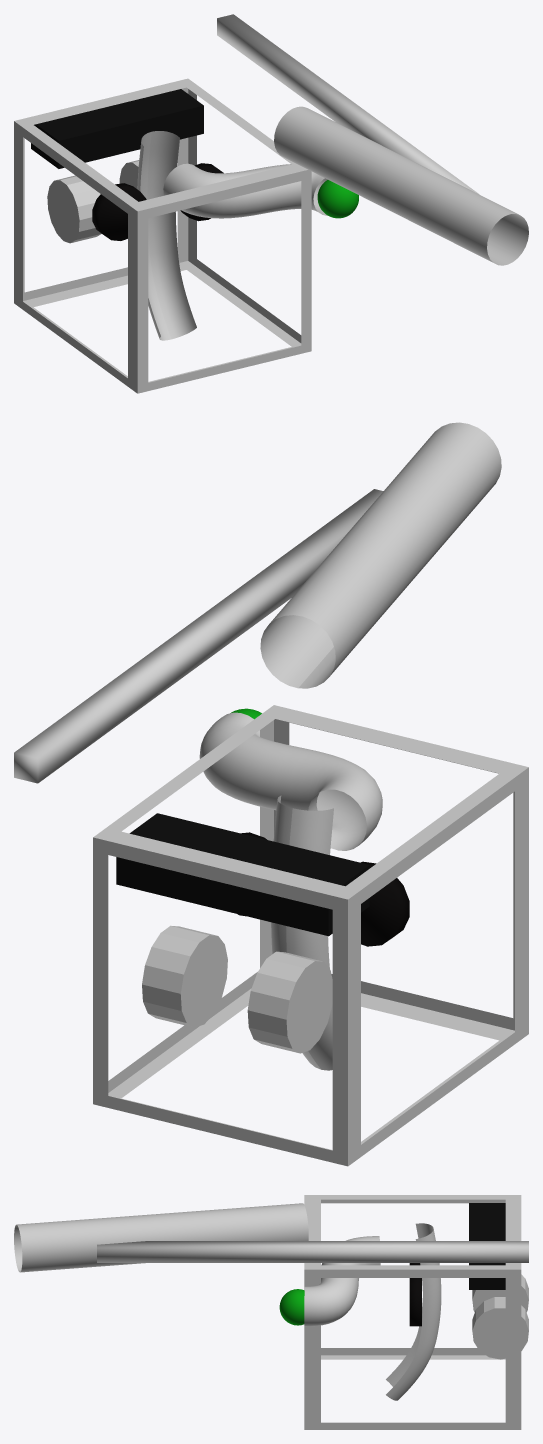
The model's file is PetitRobot.obj.
3 renders of one model, top to bottom at view 1: azimuth 30°, elevation 25°; view 2: azimuth 150°, elevation 25°; view 3: azimuth 270°, elevation 25°, orthographic. The views are drawn at different scales.
Visible parts, largest first — view 1: Robot, Distributeur_Cube.002, Batterie_Cube.003, BezierCurve, Tuyau, Roue_Cylinder.005, Lanceur, Sphere; view 2: Robot, Distributeur_Cube.002, Roue_Cylinder.005, Batterie_Cube.003, Tuyau, BezierCurve, Lanceur; view 3: Distributeur_Cube.002, Robot, BezierCurve, Roue_Cylinder.005, Tuyau, Batterie_Cube.003, Sphere, Lanceur.
Part boxes in pixels (x1=…): Robot: x1=14, y1=78, x2=311, y2=393; Distributeur_Cube.002: x1=217, y1=14, x2=528, y2=265; Batterie_Cube.003: x1=31, y1=89, x2=203, y2=168; BezierCurve: x1=137, y1=131, x2=196, y2=340; Tuyau: x1=163, y1=163, x2=327, y2=218; Roue_Cylinder.005: x1=47, y1=160, x2=139, y2=243; Lanceur: x1=92, y1=163, x2=223, y2=240; Sphere: x1=317, y1=180, x2=358, y2=218; Robot: x1=93, y1=705, x2=528, y2=1166; Distributeur_Cube.002: x1=14, y1=422, x2=501, y2=783; Roue_Cylinder.005: x1=142, y1=925, x2=332, y2=1053; Batterie_Cube.003: x1=116, y1=813, x2=369, y2=936; Tuyau: x1=199, y1=712, x2=382, y2=850; BezierCurve: x1=271, y1=795, x2=333, y2=1070; Lanceur: x1=237, y1=832, x2=409, y2=946; Distributeur_Cube.002: x1=14, y1=1203, x2=528, y2=1272; Robot: x1=304, y1=1195, x2=521, y2=1429; BezierCurve: x1=386, y1=1223, x2=441, y2=1400; Roue_Cylinder.005: x1=472, y1=1274, x2=528, y2=1359; Tuyau: x1=304, y1=1236, x2=380, y2=1326; Batterie_Cube.003: x1=469, y1=1203, x2=505, y2=1289; Sphere: x1=279, y1=1289, x2=304, y2=1325; Lanceur: x1=409, y1=1263, x2=421, y2=1326.
Bounding box in the file's own units: 28.15 × 29.59 × 61.97.
